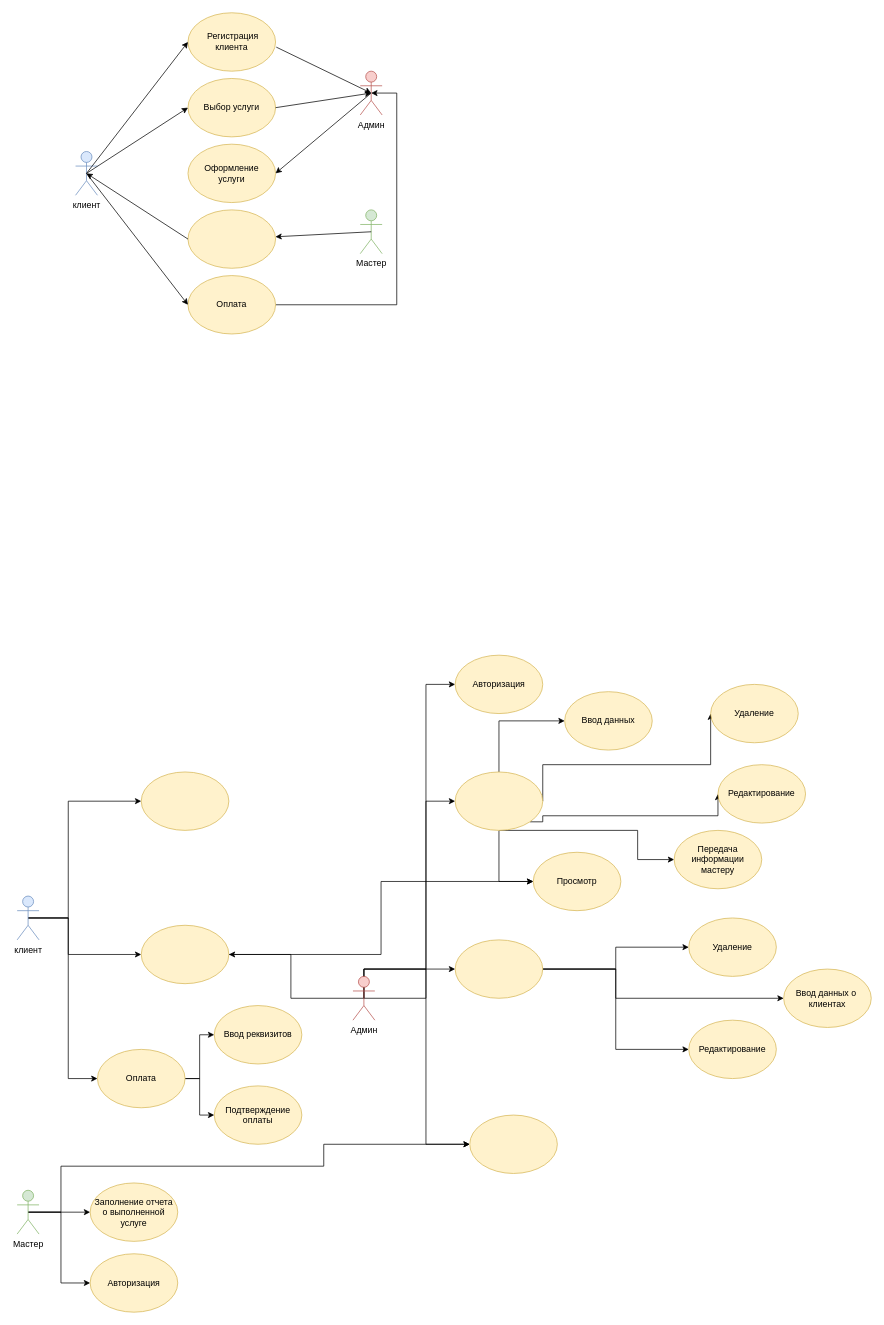
Image size: 884x1325. Some labels were removed from this diagram. Here are the shapes that lost their labels. From the top down, the centre of each, then its label:
At point 231,238: "Выполнение услуг".
At point 185,800: "Регистрация".
At point 498,800: "Введение каталога услуг".
At point 185,954: "Каталог услуг".
At point 498,968: "Управление клиенской базой".
At point 513,1143: "Расписание работы мастеров".
